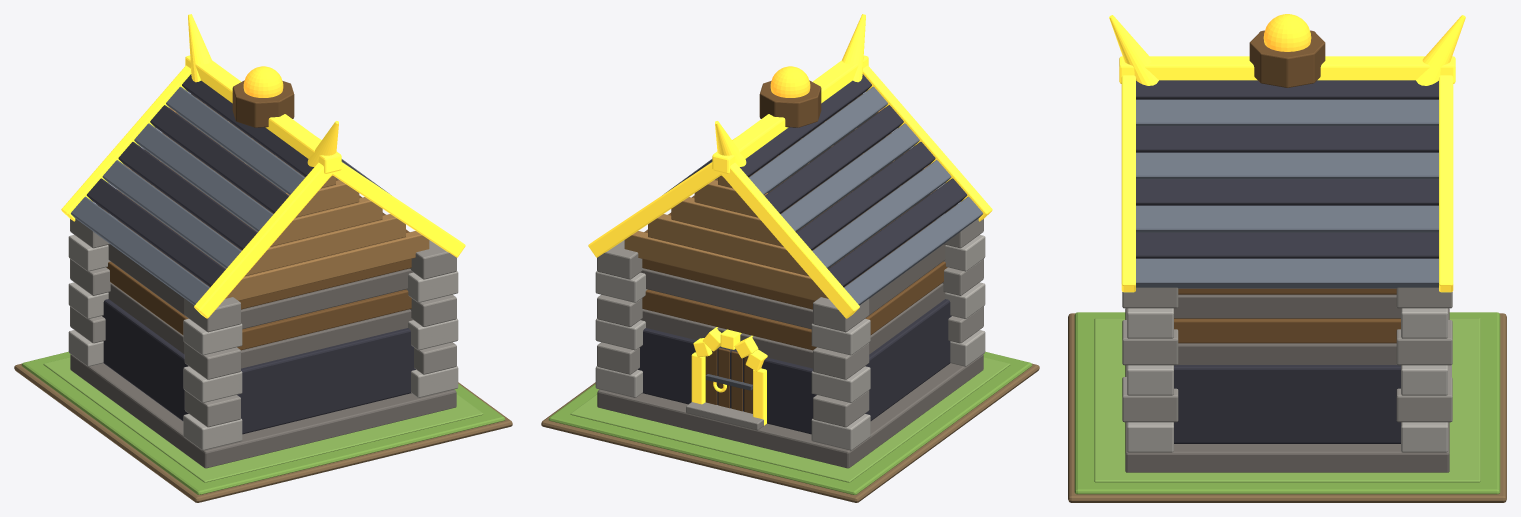
The model's file is builder_hall_lv9.glb.
3 views of the same model, side by side, from view 1: azimuth 30°, elevation 25°; view 2: azimuth 150°, elevation 25°; view 3: azimuth 270°, elevation 25° (orthographic). The views are drawn at different scales.
Parts seen in each view (by area): view 1: BH_SlateWainscot, BH_Foundation, Base_Grass, Base_Inner, WallPlank_4, WallPlank_5, WallPlank_3, Gable_-1_0, Base_Dirt, RoofSlope_-1_5, RoofSlope_-1_3, RoofSlope_-1_6 (+35 smaller); view 2: BH_SlateWainscot, BH_Foundation, Base_Grass, Base_Inner, WallPlank_4, WallPlank_5, Gable_1_0, Base_Dirt, RoofSlope_-1_5, RoofSlope_-1_3, RoofSlope_-1_6, RoofSlope_-1_2 (+41 smaller); view 3: BH_SlateWainscot, Base_Inner, Base_Grass, RoofSlope_1_7, BH_Foundation, RoofSlope_1_5, RoofSlope_1_1, RoofSlope_1_2, RoofSlope_1_3, RoofSlope_1_4, RoofSlope_1_6, Base_Dirt (+24 smaller).
Boxes of the visible parts, box(x1,y1,x2,y2) form: BH_SlateWainscot: box(102, 299, 415, 434); BH_Foundation: box(70, 354, 456, 468); Base_Grass: box(21, 351, 505, 494); Base_Inner: box(43, 357, 483, 482); WallPlank_4: box(106, 261, 411, 350); WallPlank_5: box(108, 244, 413, 329); WallPlank_3: box(108, 283, 412, 368); Gable_-1_0: box(225, 231, 429, 300); Base_Dirt: box(14, 363, 512, 502); RoofSlope_-1_5: box(102, 160, 241, 268); RoofSlope_-1_3: box(134, 123, 273, 232); RoofSlope_-1_6: box(86, 178, 225, 287); BH_SlateWainscot: box(638, 299, 951, 434); BH_Foundation: box(597, 354, 983, 468); Base_Grass: box(548, 351, 1032, 494); Base_Inner: box(570, 357, 1010, 482); WallPlank_4: box(642, 261, 947, 350); WallPlank_5: box(640, 244, 945, 329); Gable_1_0: box(624, 231, 828, 300); Base_Dirt: box(541, 363, 1039, 502); RoofSlope_-1_5: box(812, 160, 951, 268); RoofSlope_-1_3: box(780, 123, 919, 232); RoofSlope_-1_6: box(828, 178, 967, 287); RoofSlope_-1_2: box(765, 105, 903, 213); BH_SlateWainscot: box(1174, 365, 1400, 443); Base_Inner: box(1094, 318, 1480, 482); Base_Grass: box(1074, 312, 1500, 494); RoofSlope_1_7: box(1136, 258, 1438, 288); BH_Foundation: box(1125, 308, 1449, 472); RoofSlope_1_5: box(1136, 205, 1438, 232); RoofSlope_1_1: box(1136, 99, 1438, 125); RoofSlope_1_2: box(1136, 126, 1438, 152); RoofSlope_1_3: box(1136, 152, 1438, 178); RoofSlope_1_4: box(1136, 179, 1438, 205); RoofSlope_1_6: box(1136, 232, 1438, 258); Base_Dirt: box(1068, 313, 1506, 502).
Size of the model in its own units: 3.68 by 3.67 by 3.68.
